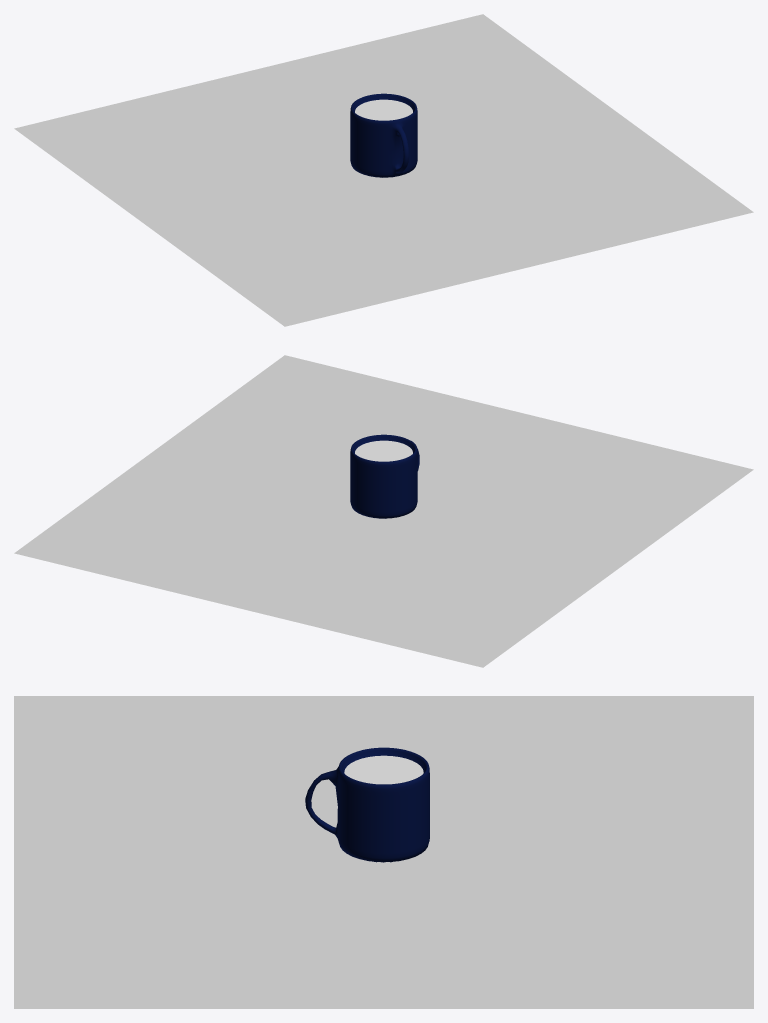
The model's file is coffee.glb.
3 views of the same model, one above another, from view 1: azimuth 30°, elevation 25°; view 2: azimuth 150°, elevation 25°; view 3: azimuth 270°, elevation 25° (orthographic). The views are drawn at different scales.
Visible parts, largest first — view 1: Plane.001; view 2: Plane.001; view 3: Plane.001.
Boxes of the visible parts, x1=… form: Plane.001: x1=14, y1=14, x2=753, y2=326; Plane.001: x1=14, y1=355, x2=753, y2=667; Plane.001: x1=14, y1=696, x2=753, y2=1008.
Bounding box in the file's own units: 4.16 × 0.5358 × 4.16.
